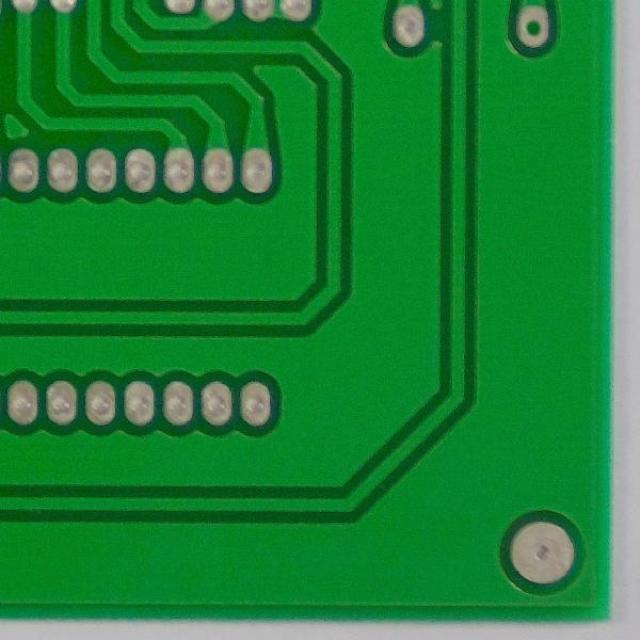missing_hole: (510, 2, 559, 51)
